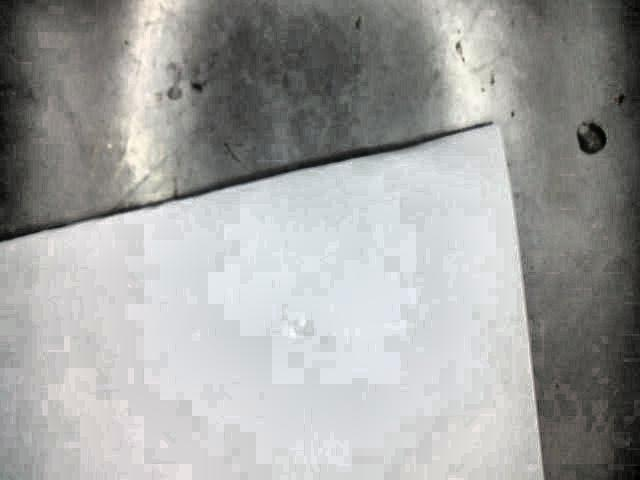Paper: (1, 123, 546, 479)
